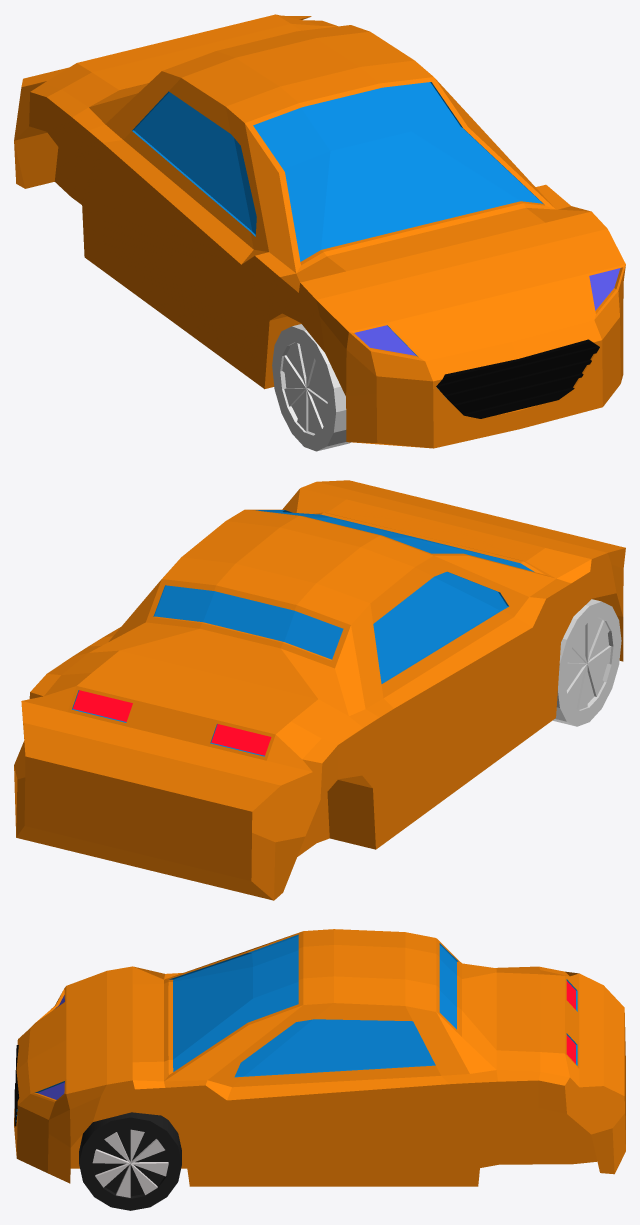
Rendered from Honda S660.fbx.
3 renders of one model, top to bottom at view 1: azimuth 30°, elevation 25°; view 2: azimuth 150°, elevation 25°; view 3: azimuth 270°, elevation 25°, orthographic. The views are drawn at different scales.
Parts seen in each view (by area): view 1: Body, Wheel.FR; view 2: Body, Wheel.FR; view 3: Body, Wheel.FL.
Part boxes in pixels (x1,y1,x2,y2): Body: (14,14,625,448); Wheel.FR: (272,324,350,451); Body: (14,480,625,900); Wheel.FR: (553,599,621,726); Body: (14,929,625,1186); Wheel.FL: (79,1112,181,1210).
Bounding box in the file's own units: 122 × 348 × 154.
